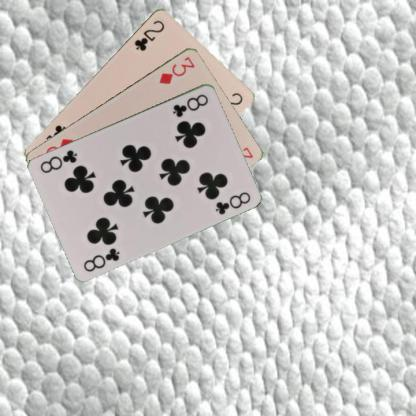2c: (132, 16, 166, 52)
3d: (156, 54, 196, 86)
8c: (81, 245, 122, 273), (170, 92, 210, 118)
